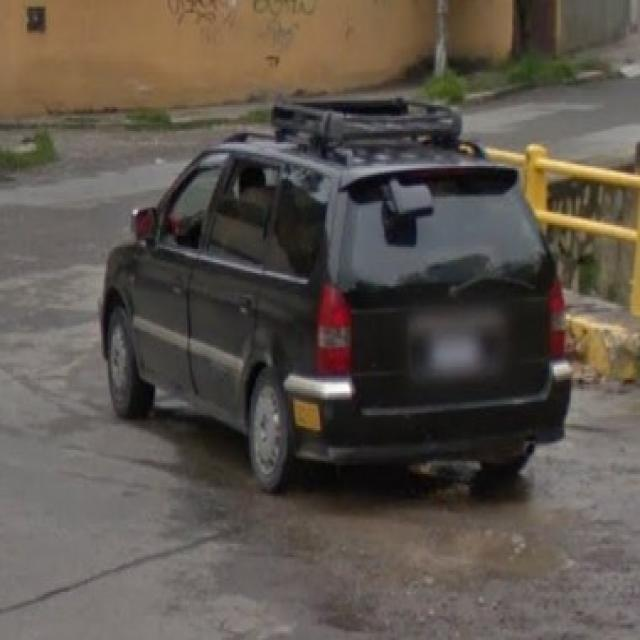cars: (100, 96, 573, 504)
